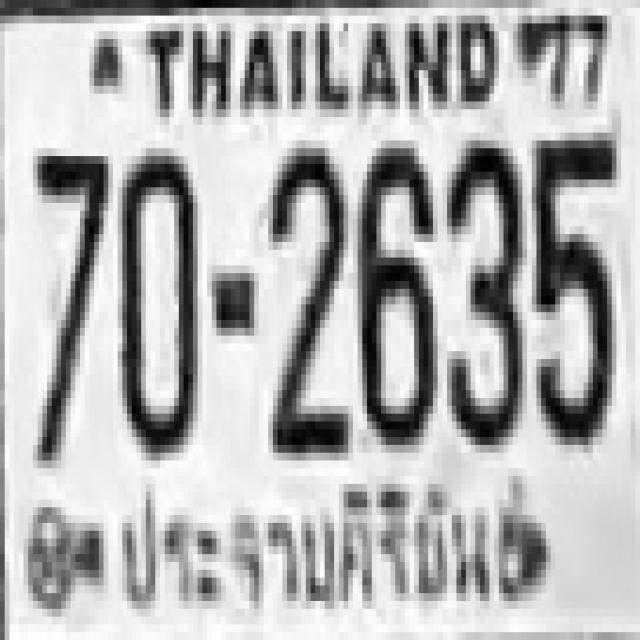0: (118, 148, 193, 445)
2: (268, 140, 344, 452)
3: (445, 137, 520, 441)
5: (532, 133, 612, 437)
6: (353, 141, 433, 437)
7: (30, 148, 106, 460)
PKN: (114, 479, 542, 620)
